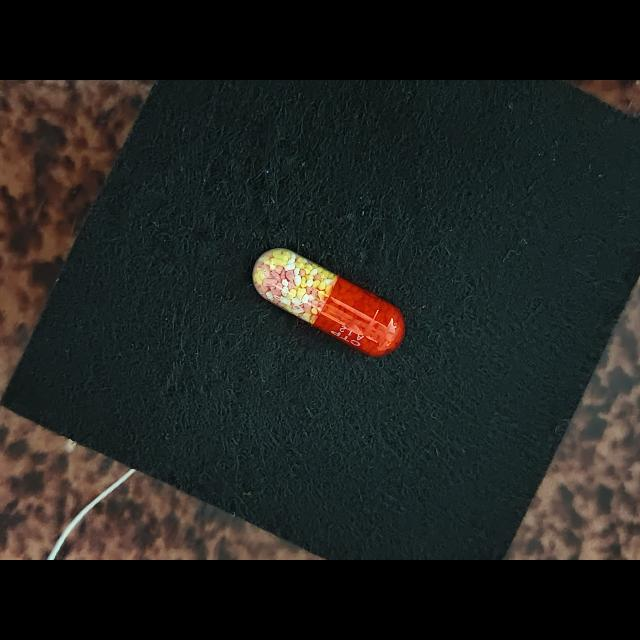Intact Capsule: (252, 248, 405, 357)
